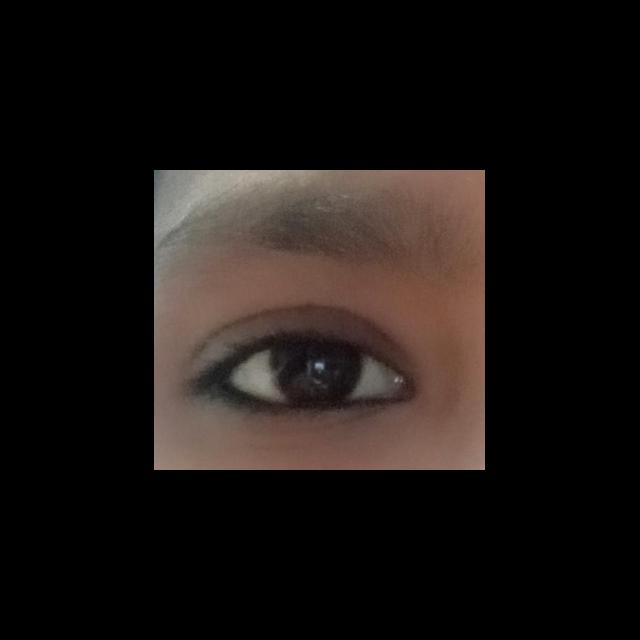eye: (227, 341, 398, 406)
iris: (271, 345, 364, 402)
